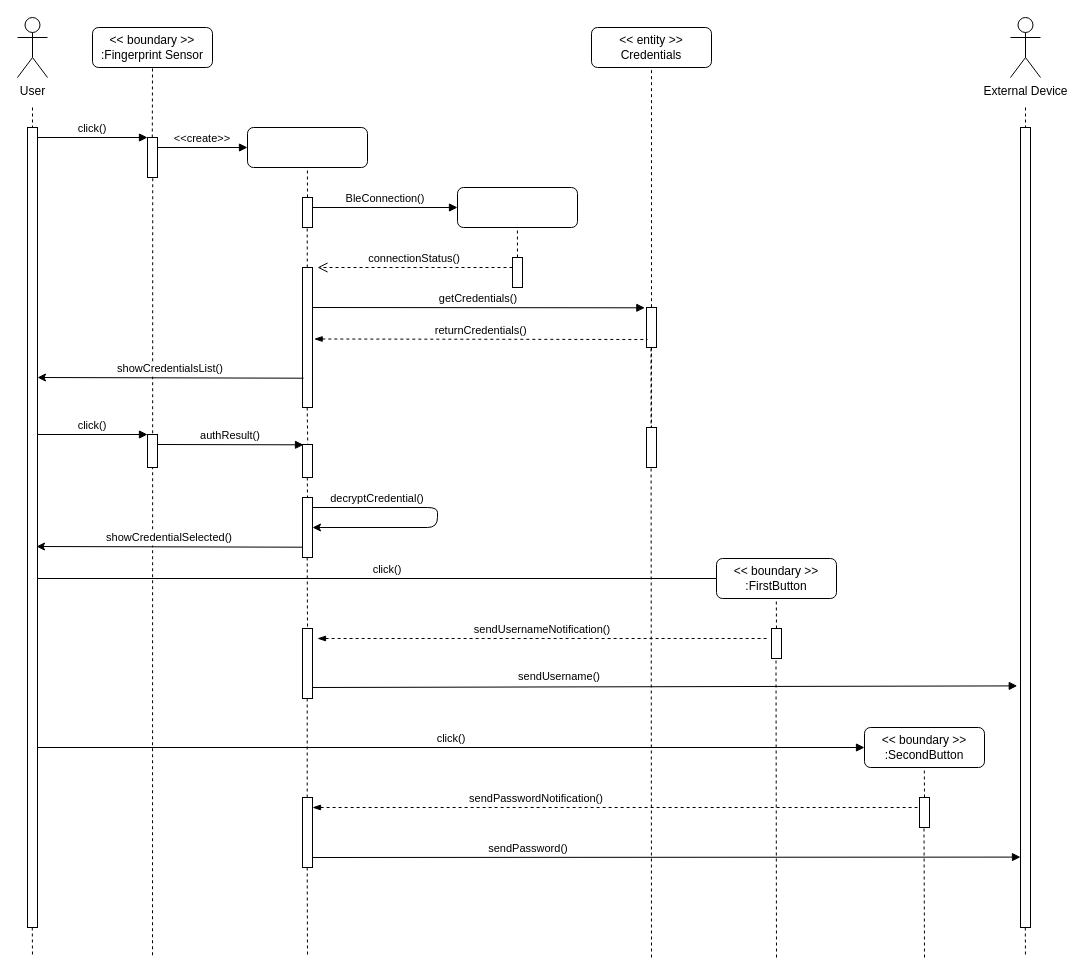
This 1085x976 diagram has some shape labels left out. The centre of each missing label's shape, as x and y in pixels:
"<< boundary >> :Bluetooth" belongs at [517,207].
"<< control>> :Credentials Control" belongs at [307,147].
